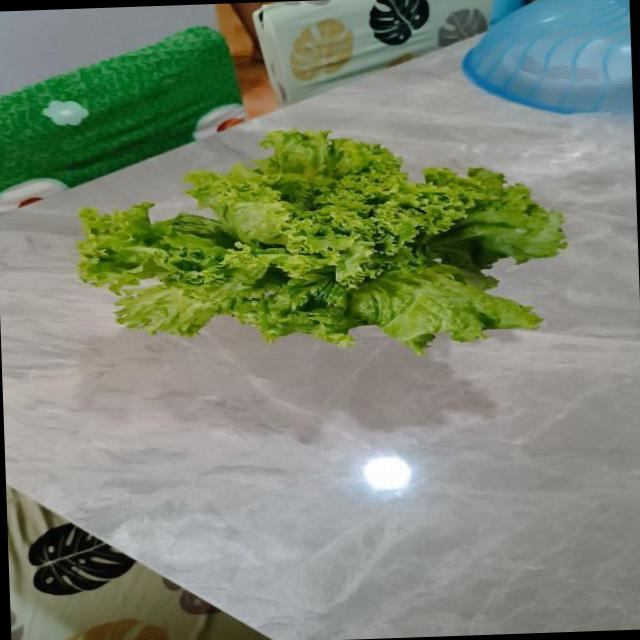Lettuce-Ready-to-Harvest: (78, 129, 565, 350)
